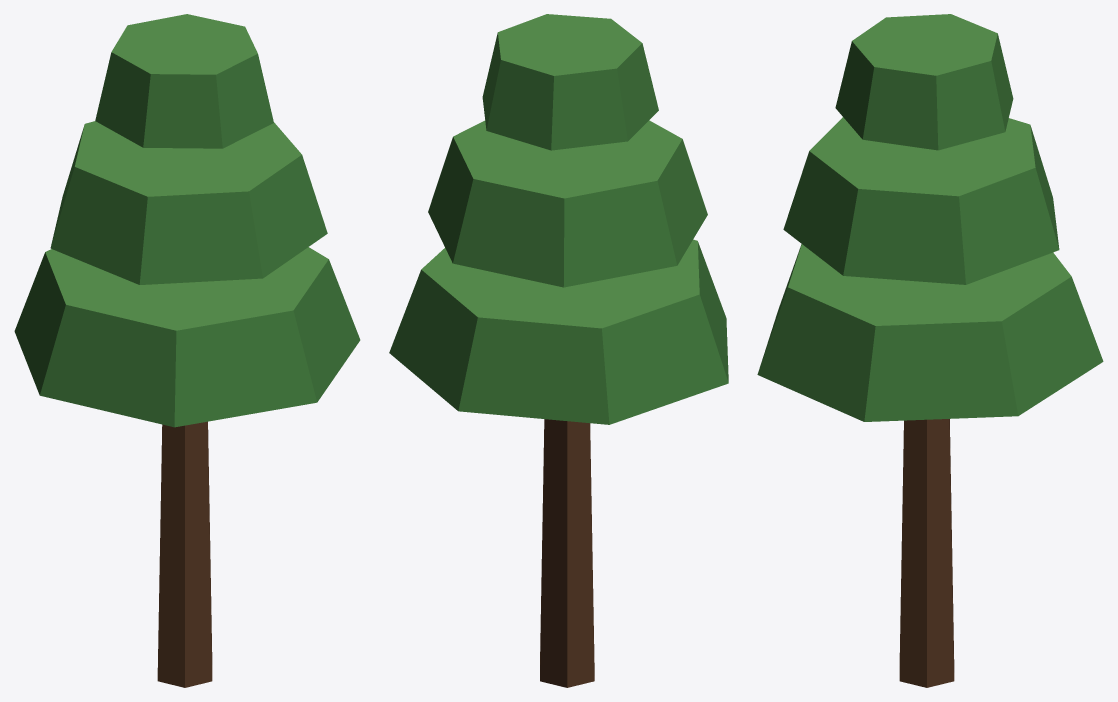
Rendered from tree_plateau_dark.glb.
3 renders of one model, left to right at view 1: azimuth 30°, elevation 25°; view 2: azimuth 150°, elevation 25°; view 3: azimuth 270°, elevation 25°, orthographic.
Visible parts, largest first — view 1: tree_plateau_dark; view 2: tree_plateau_dark; view 3: tree_plateau_dark.
Boxes of the visible parts, box(x1,y1,x2,y2) form: tree_plateau_dark: box(14, 14, 360, 687); tree_plateau_dark: box(389, 14, 728, 687); tree_plateau_dark: box(757, 14, 1103, 687).
Bounding box in the file's own units: 0.599 × 1.21 × 0.602.
Materials: 1 (1 with a texture image).
